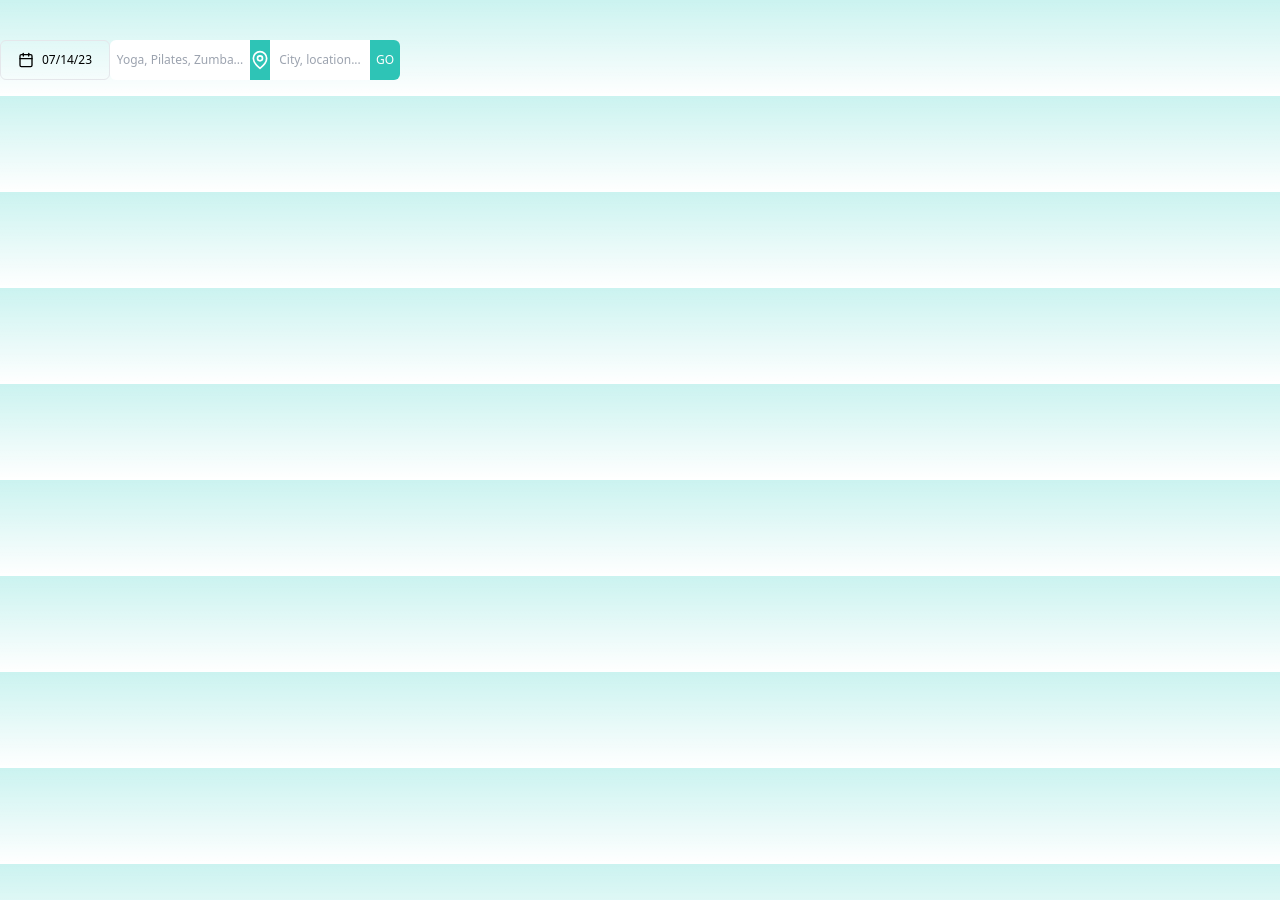
ClassSearch › displays a message when search result is empty
The image size is (1280, 900).
In the field with test id "search-input": (320, 60) x1=270 y1=40 x2=370 y2=80, type "queens"
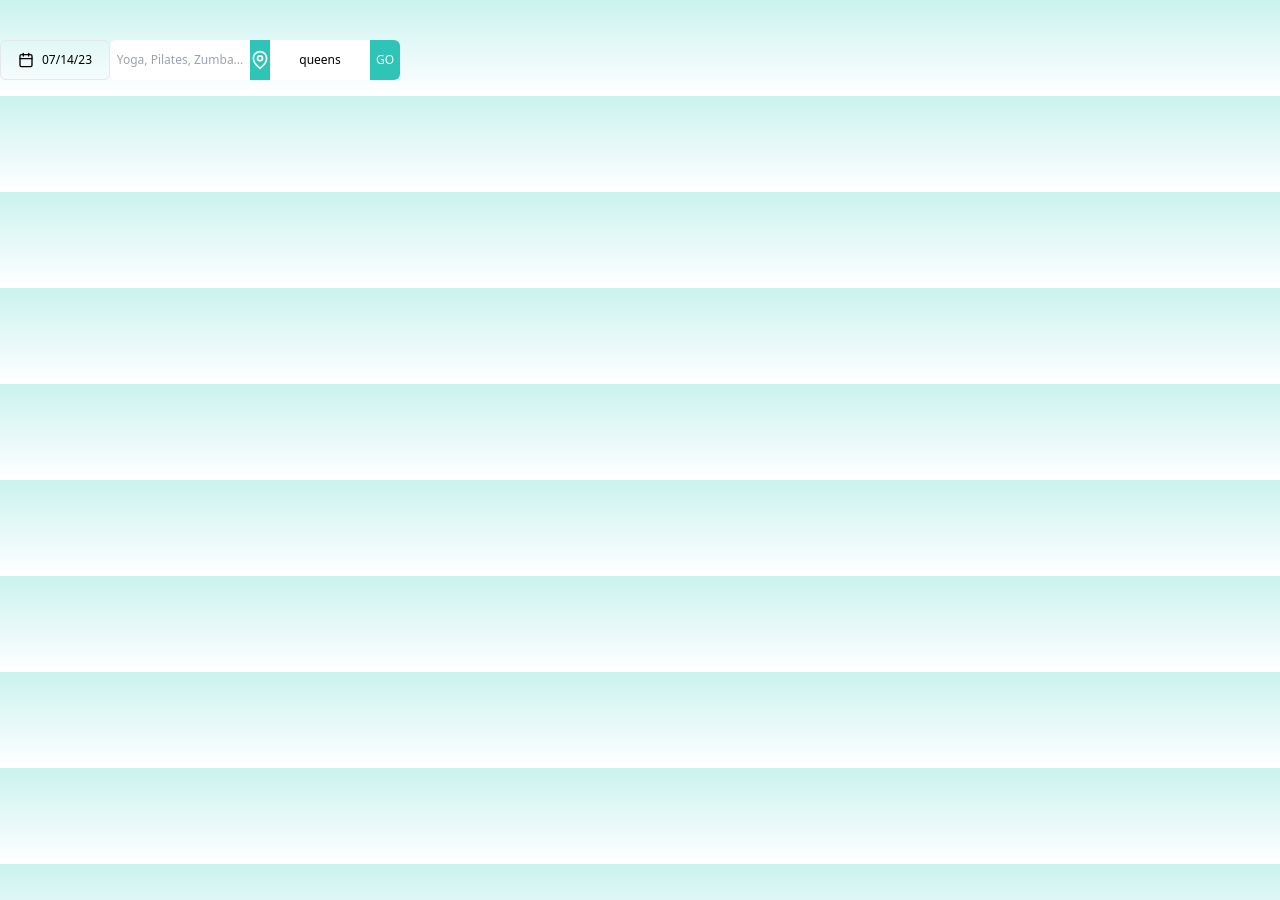
Press Enter in the field with test id "search-input", box x1=270 y1=40 x2=370 y2=80
// Simulate button click
Click the button "GO": (385, 60) x1=370 y1=40 x2=400 y2=80
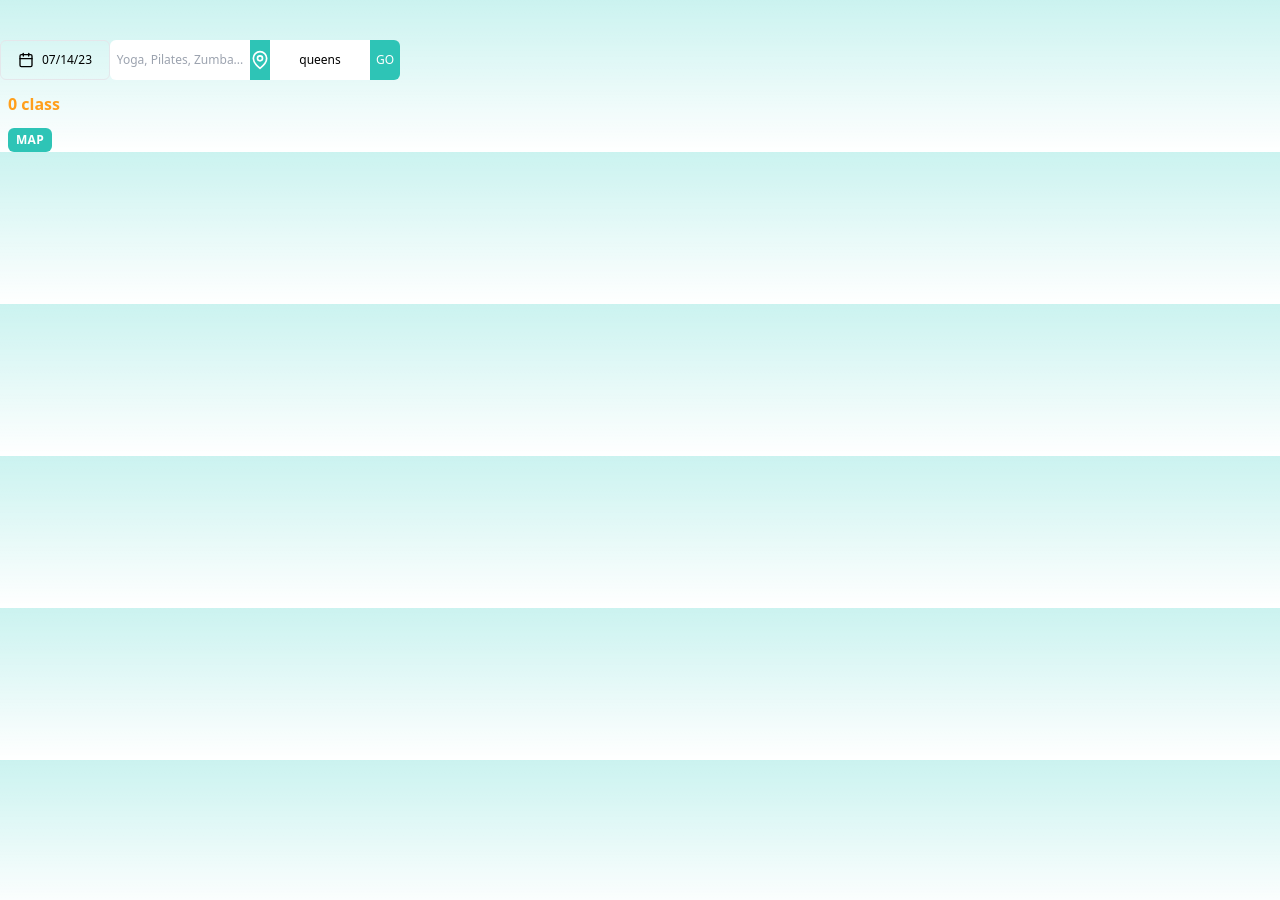
expect the text "0 class" is shown: met, box x1=8 y1=93 x2=60 y2=115
